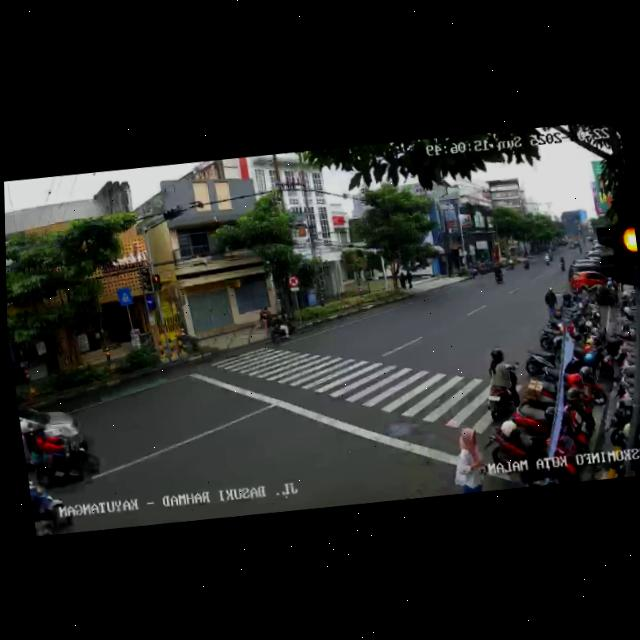car: (18, 402, 99, 488), (566, 254, 611, 295)
motorcycle: (29, 475, 76, 535), (480, 349, 520, 418), (447, 423, 486, 492), (491, 260, 505, 283), (543, 247, 553, 264)
person: (540, 283, 561, 324)
